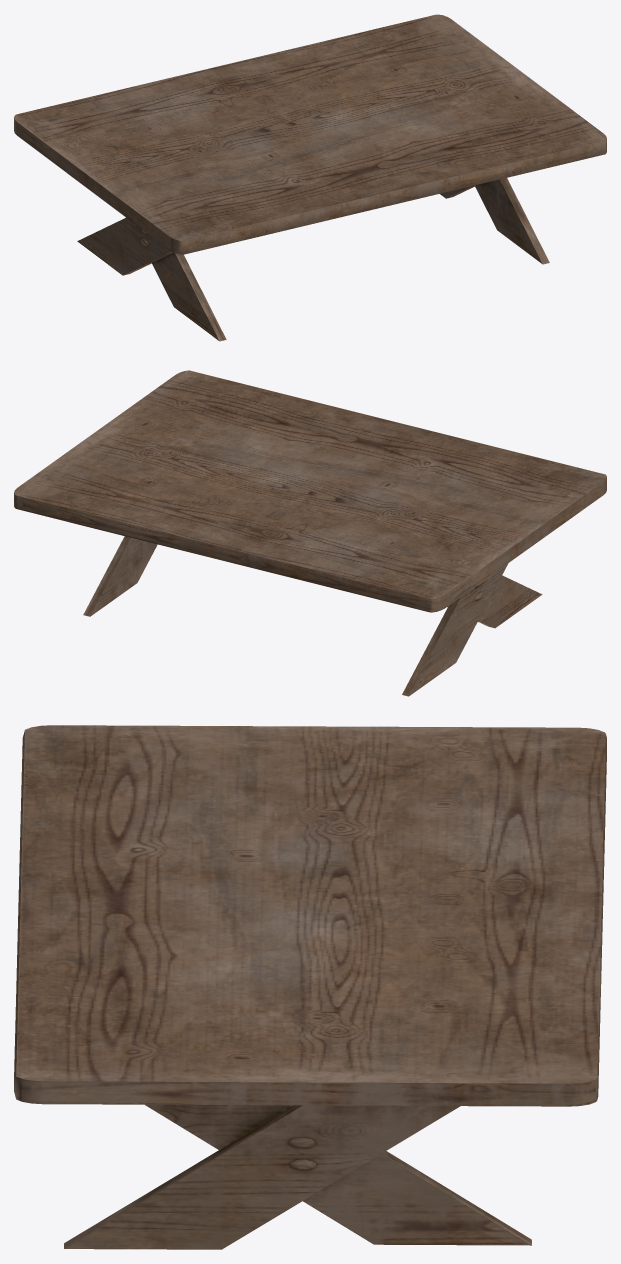
The model's file is Table_Long.fbx.
3 renders of one model, top to bottom at view 1: azimuth 30°, elevation 25°; view 2: azimuth 150°, elevation 25°; view 3: azimuth 270°, elevation 25°, orthographic. The views are drawn at different scales.
Parts seen in each view (by area): view 1: MainHall_Table_6.015; view 2: MainHall_Table_6.015; view 3: MainHall_Table_6.015.
Part boxes in pixels (x1,y1,x2,y2): MainHall_Table_6.015: (14, 14, 606, 341); MainHall_Table_6.015: (14, 370, 606, 696); MainHall_Table_6.015: (14, 725, 606, 1249).
Size of the model in its own units: 324 by 87.28 by 227.
